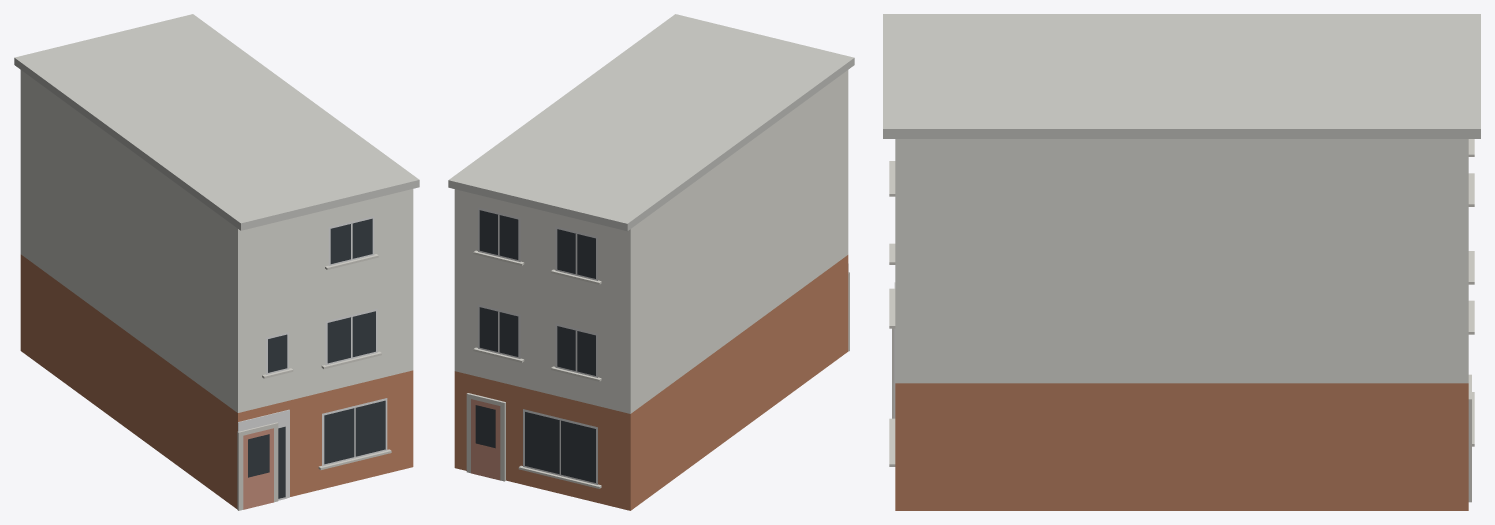
Rendered from nw-os-white__white__3__flat__long__solid.glb.
3 renders of one model, left to right at view 1: azimuth 30°, elevation 25°; view 2: azimuth 150°, elevation 25°; view 3: azimuth 270°, elevation 25°, orthographic. The views are drawn at different scales.
Parts seen in each view (by area): view 1: nw-os-white__white__3__flat__long__solid; view 2: nw-os-white__white__3__flat__long__solid; view 3: nw-os-white__white__3__flat__long__solid.
Part boxes in pixels (<box>): nw-os-white__white__3__flat__long__solid: <box>14,14,419,510</box>; nw-os-white__white__3__flat__long__solid: <box>448,14,854,510</box>; nw-os-white__white__3__flat__long__solid: <box>883,14,1480,510</box>.
Size of the model in its own units: 5.54 by 8.6 by 12.17.
